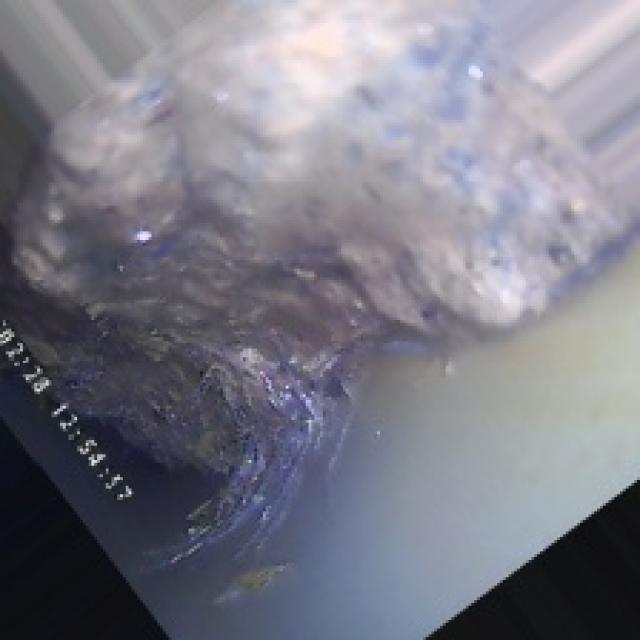sluge accumulation: (51, 60, 592, 440)
